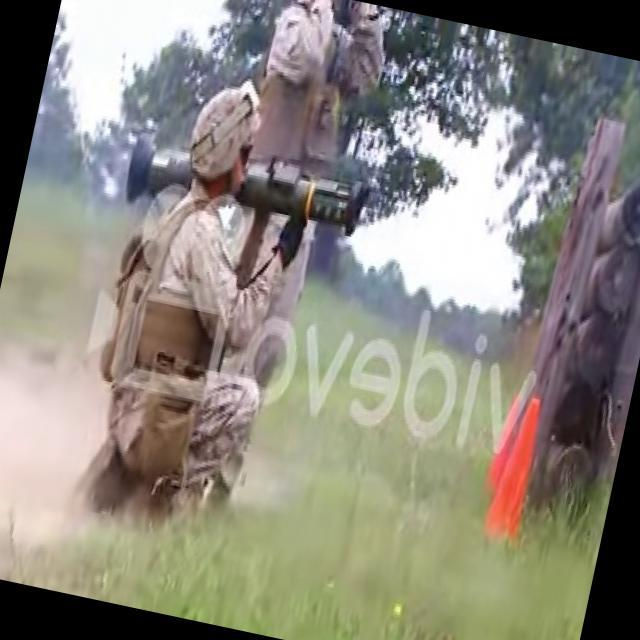rocket: (119, 128, 364, 245)
